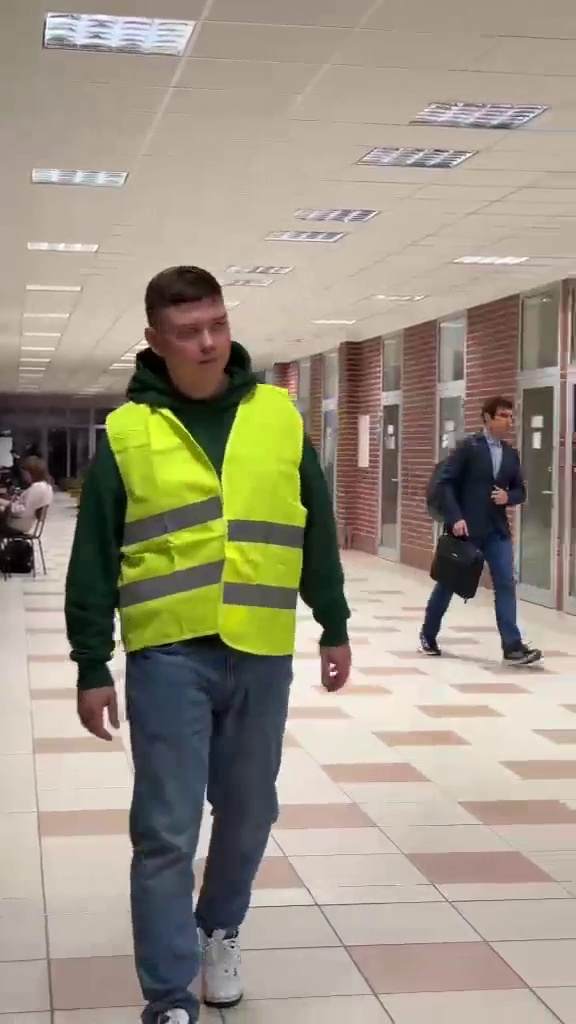no vest: (425, 392, 541, 665)
vest: (65, 267, 363, 1024)
